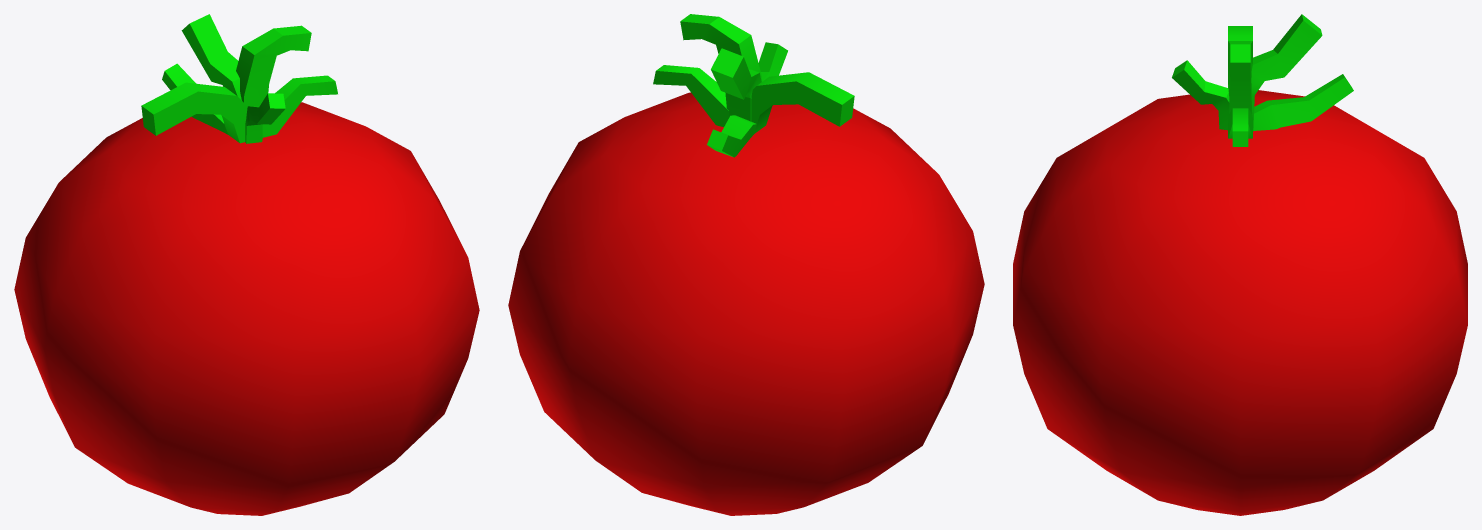
File: Tomato.fbx
3 views of the same model, side by side, from view 1: azimuth 30°, elevation 25°; view 2: azimuth 150°, elevation 25°; view 3: azimuth 270°, elevation 25° (orthographic). The views are drawn at different scales.
Parts seen in each view (by area): view 1: m_Tomato; view 2: m_Tomato; view 3: m_Tomato.
Part boxes in pixels (<box>): m_Tomato: <box>14,14,479,515</box>; m_Tomato: <box>508,14,984,515</box>; m_Tomato: <box>1013,14,1467,515</box>.
Bounding box in the file's own units: 3.83 × 4.14 × 3.64.
